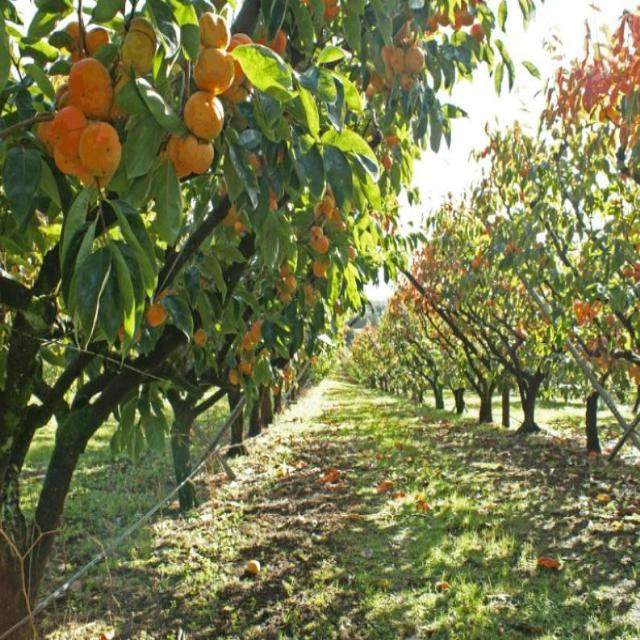row: (63, 379, 640, 640)
